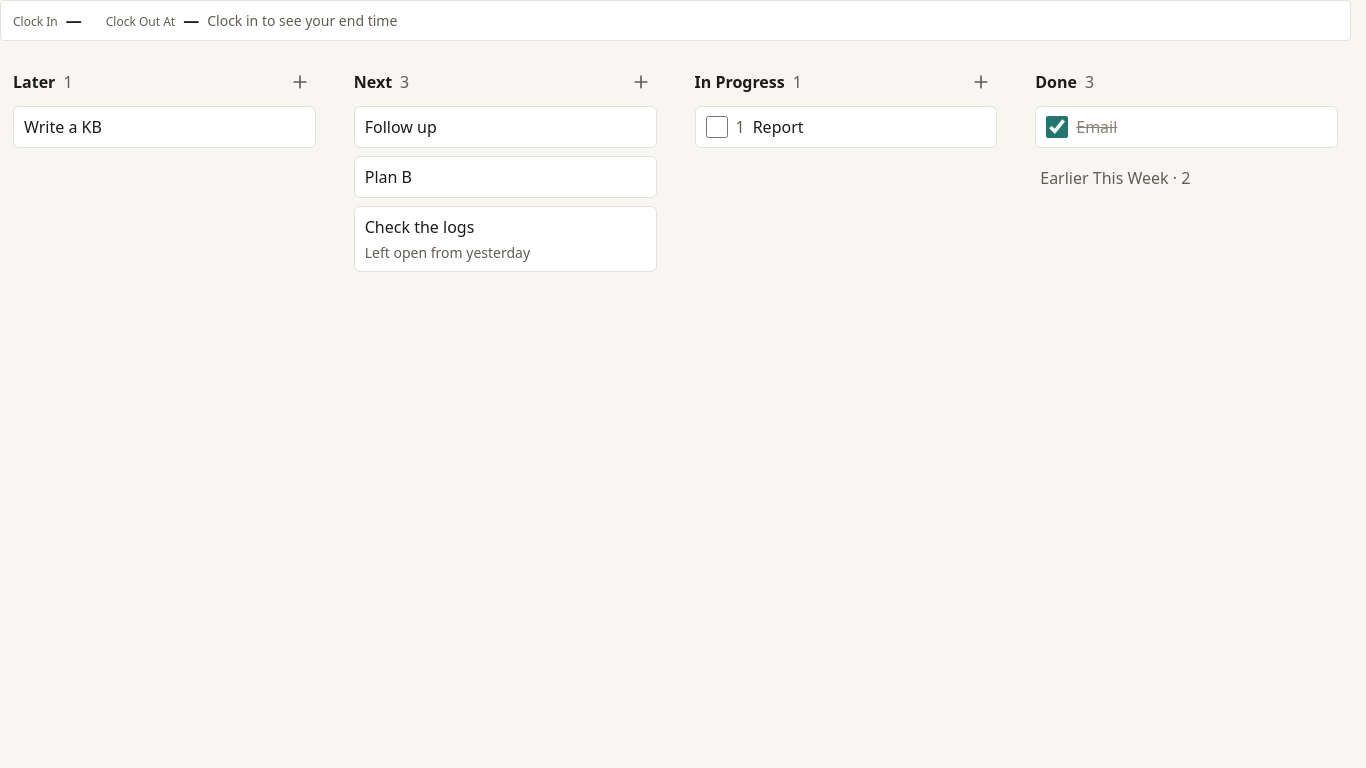
Test: Board › shows a task left open in the last two weeks in Next after its own tasks, saying when, and Move to Next gives it a place
The image size is (1366, 768).
Check: the text "Left open from yesterday" is shown, box [365,243,530,264]
Click the button "Check the logs". click: coordinates (420, 227)
box: [365,215,646,239]
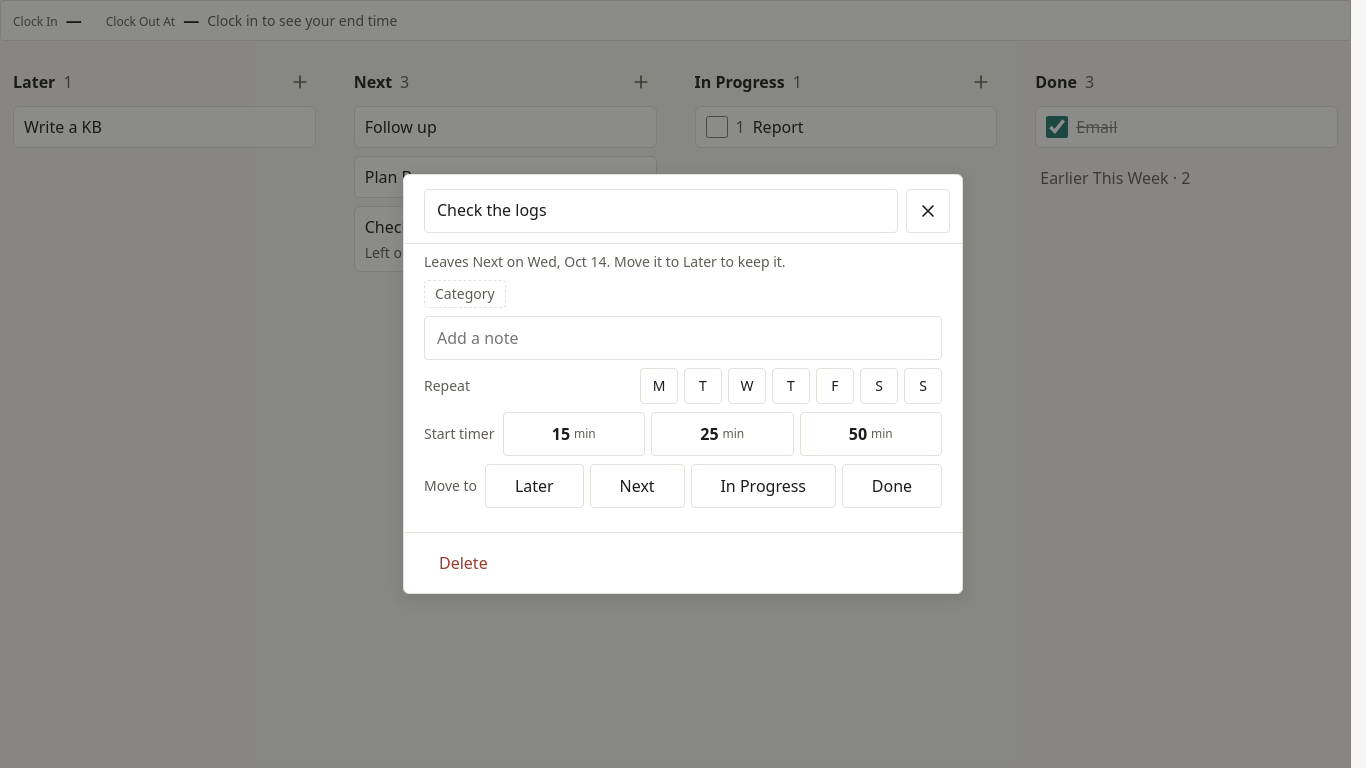
Check: the field named "Title" is shown, box [424,189,898,233]
Check: the button with aria-label "Category for Check the logs: none" is shown, box [424,280,506,308]
Check: the button "Delete" is shown, box [424,541,503,585]
Click the button "Next". click: coordinates (637, 486)
box: [590,464,684,508]
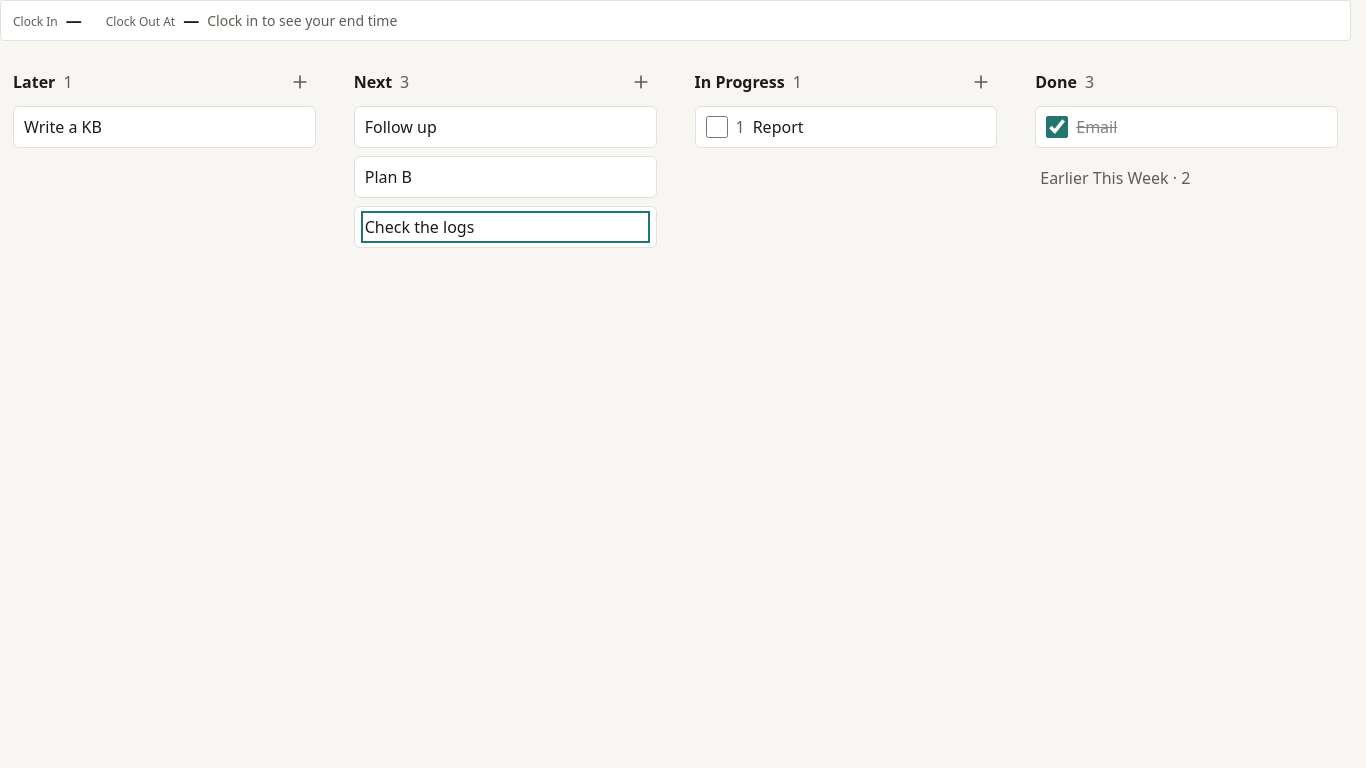
Check: the text "Left open from yesterday" is gone
